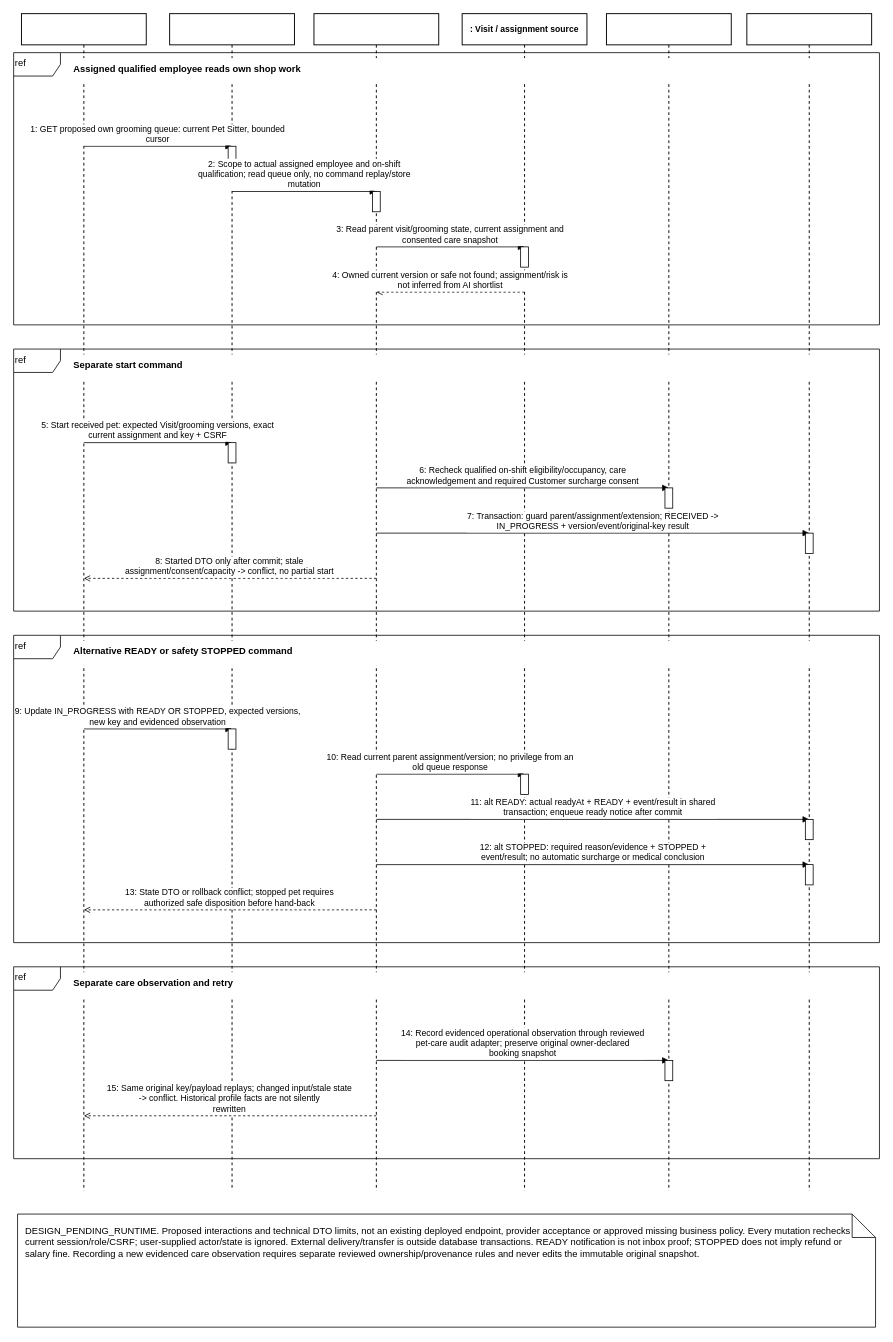
This 893x1342 diagram has some shape labels left out. The box of each missing label's shape, as (x1, y1, x2, y2) in pixels:
: Eligibility / care adapter: (606, 13, 731, 1191)
: GroomingProgressService: (313, 13, 439, 1191)
: MongoDB / Event / Command: (746, 13, 872, 1191)
: Proposed GroomingBoundary: (169, 13, 295, 1191)
Assigned Pet Sitter: (21, 13, 146, 1191)
